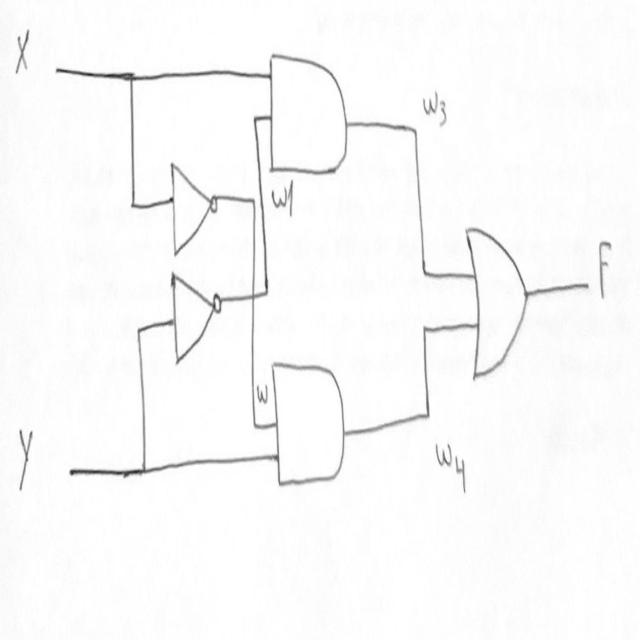AND: (269, 347, 359, 498), (265, 34, 353, 186)
NOT: (165, 272, 230, 370), (165, 156, 221, 256)
OR: (452, 214, 538, 401)
